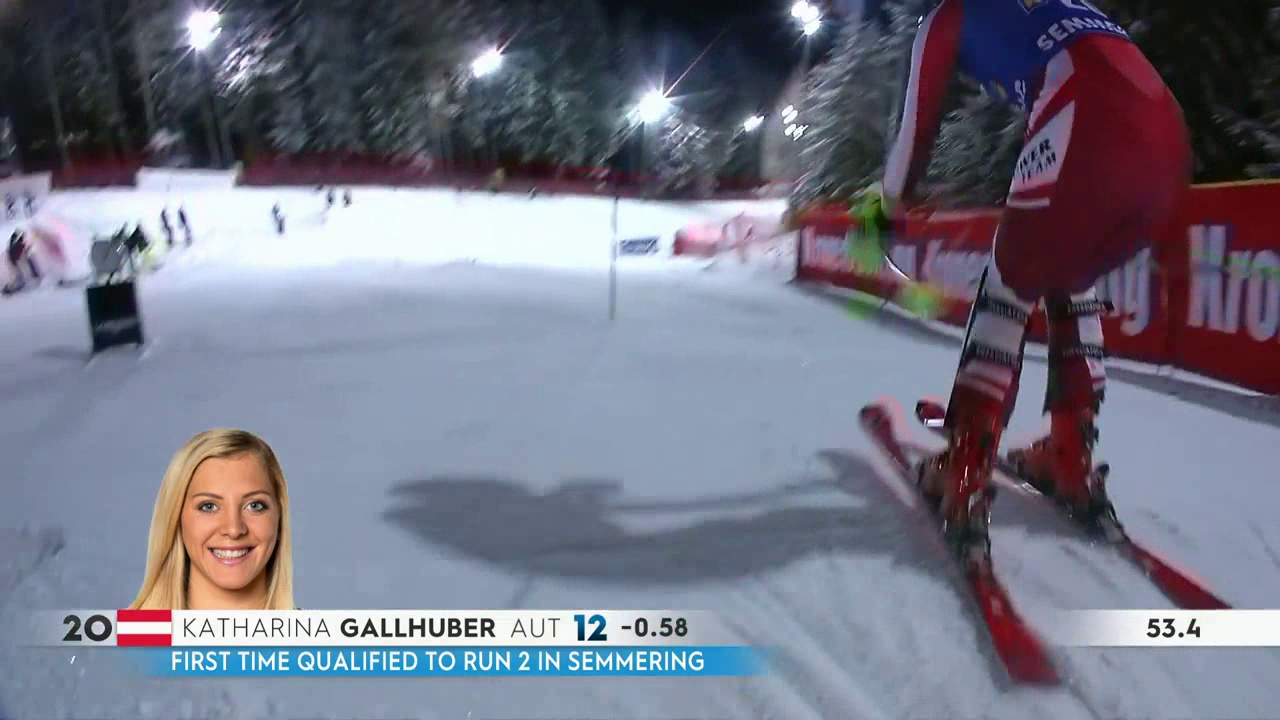kronenzeitung: (910, 230, 1278, 366)
